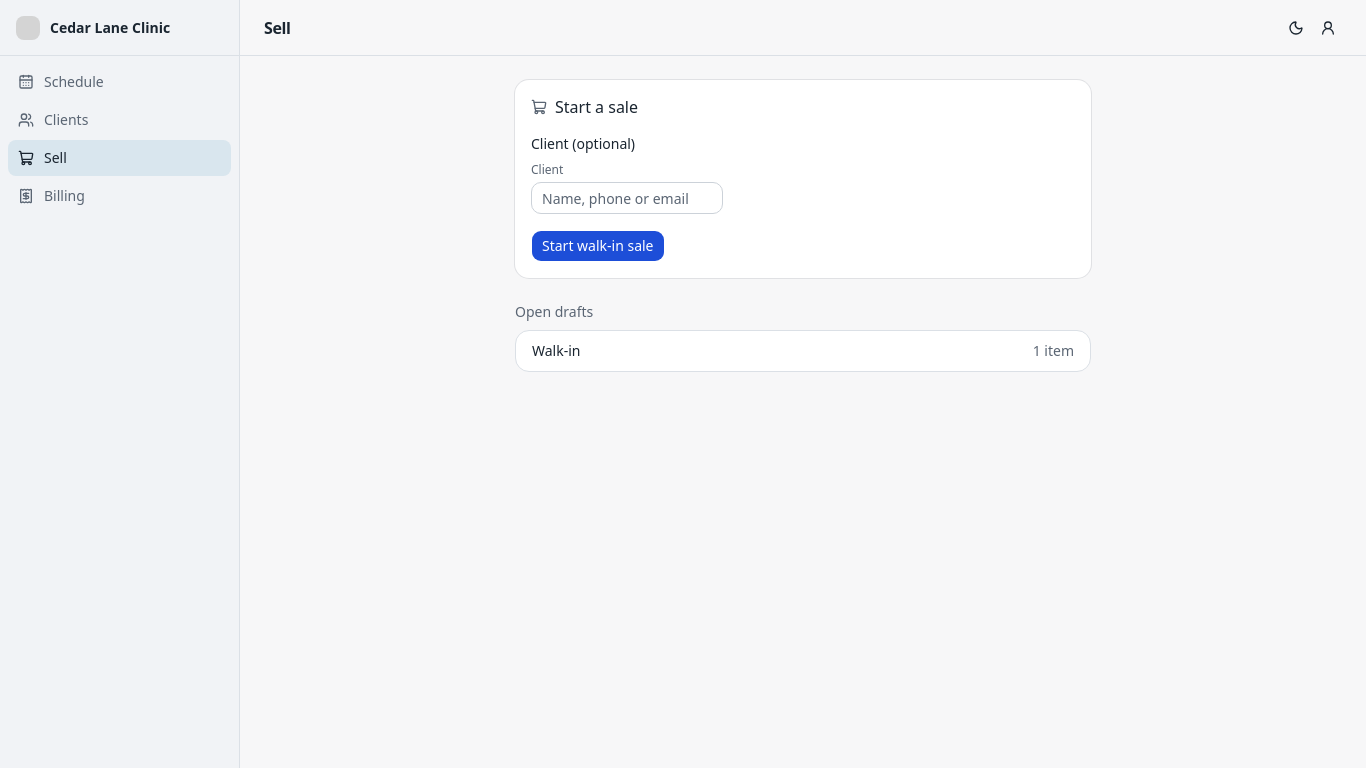
an open draft is listed and resumable
This screenshot has width=1366, height=768.
Click the button "Walk-in 1 item".
click(556, 350)  # box [516, 331, 1090, 371]
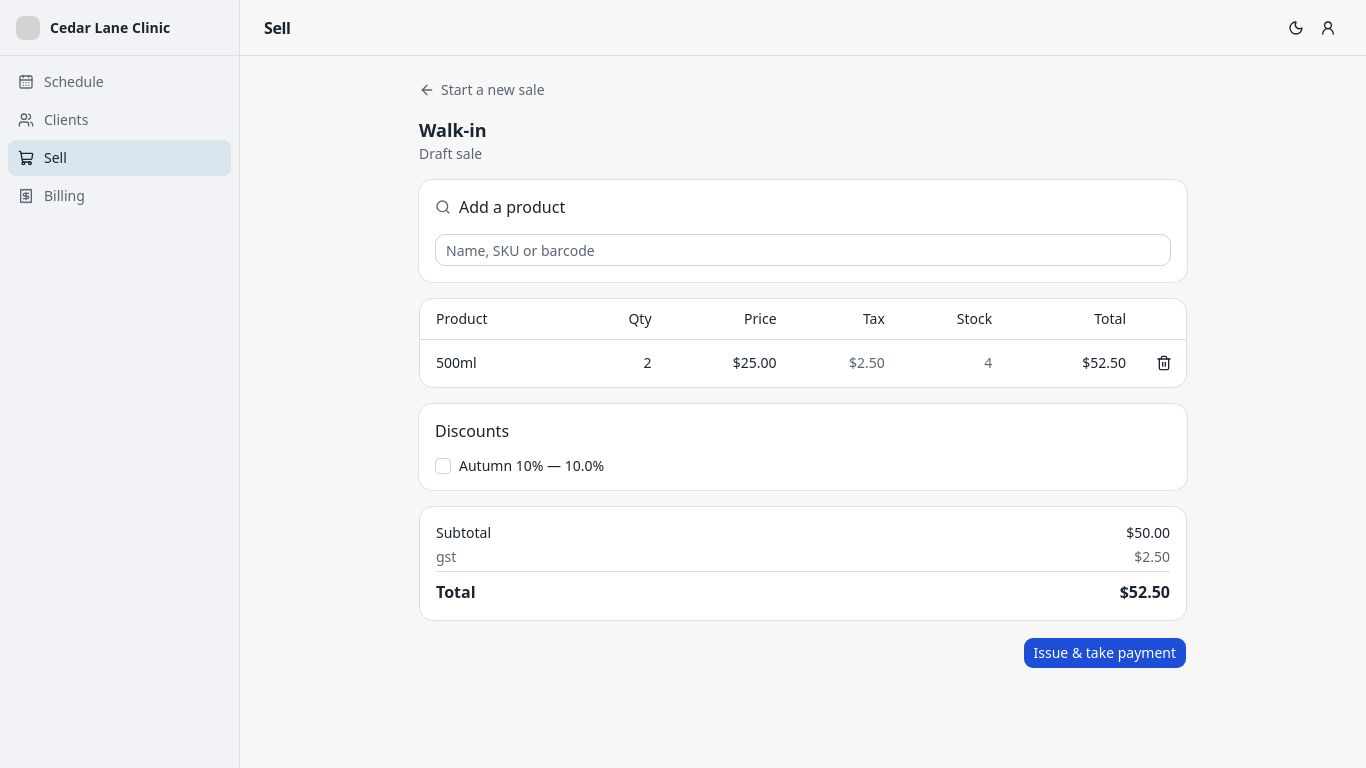
Now the text "500ml" is shown, box [420, 339, 578, 387]
